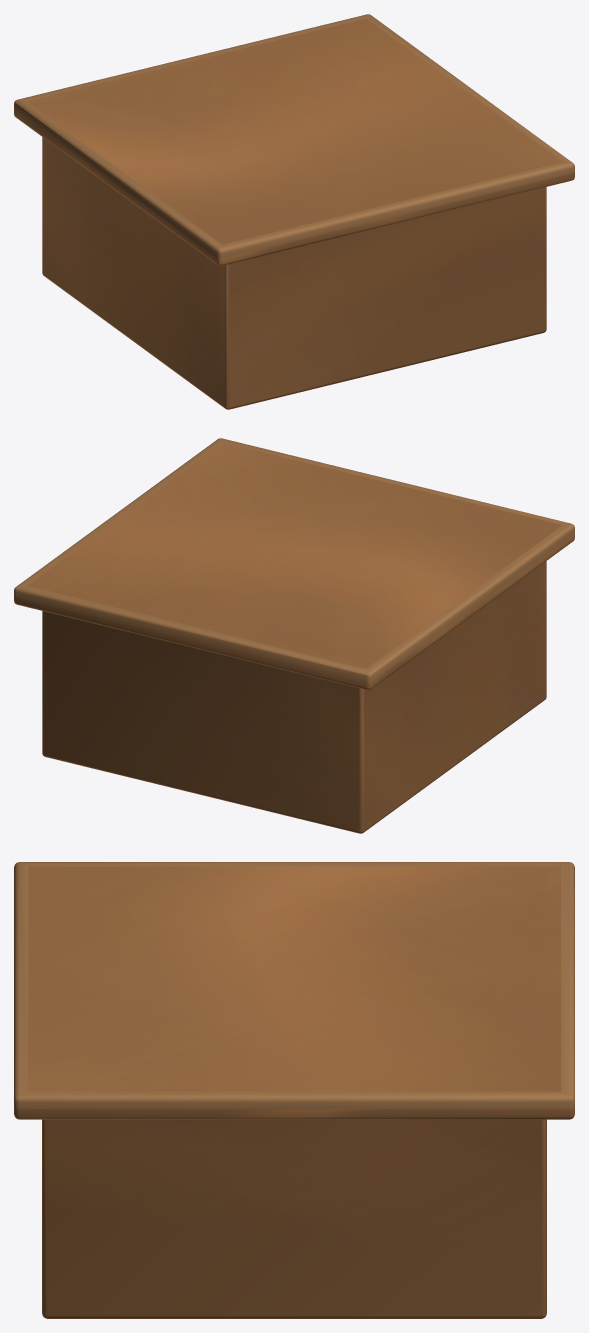
The model's file is work_table.fbx.
3 views of the same model, one above another, from view 1: azimuth 30°, elevation 25°; view 2: azimuth 150°, elevation 25°; view 3: azimuth 270°, elevation 25° (orthographic). The views are drawn at different scales.
Visible parts, largest first — view 1: Cube; view 2: Cube; view 3: Cube.
Boxes of the visible parts, x1,y1,x2,y2 form: Cube: (14,14,574,409); Cube: (14,438,574,833); Cube: (14,862,574,1318).
Size of the model in its own units: 989 by 458 by 989.
2 materials, 1 textured.
